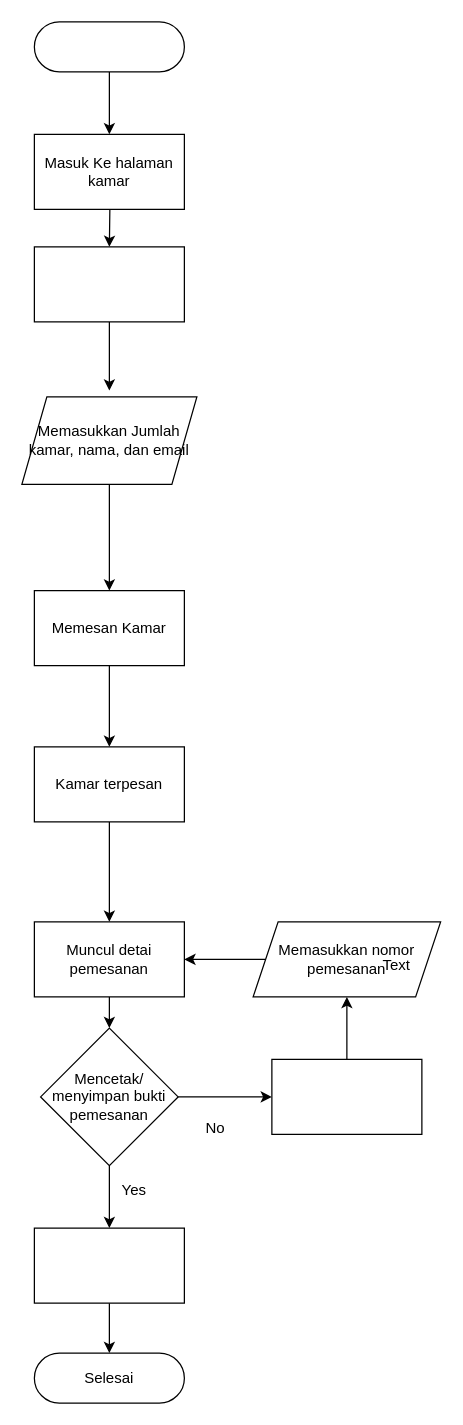
Some shapes in this 463 by 1425 pixel diagram are drawn without their labels. Here are the shapes that lost their labels. From the top down, the centre of each, then its label:
At point (108, 46): "Mulai".
At point (108, 284): "Memilih tipe Kamar".
At point (346, 1096): "Cek pemesanan".
At point (108, 1265): "Menyerahkan bukti ke resepsionis".
